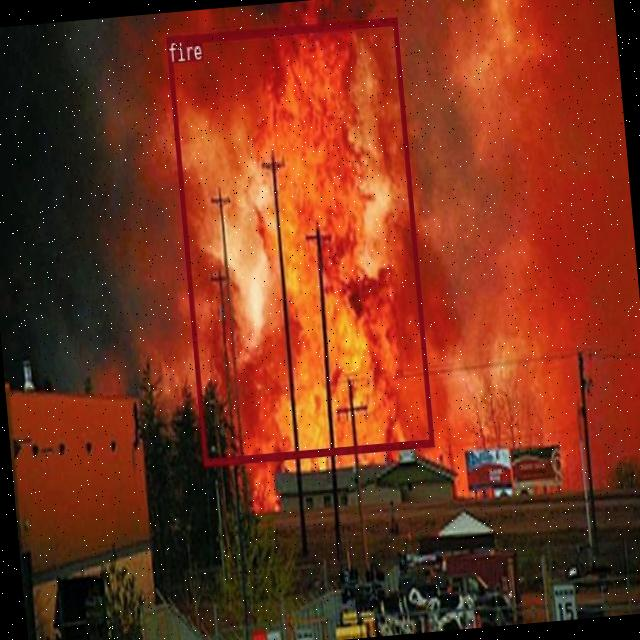fire: (165, 16, 433, 465)
